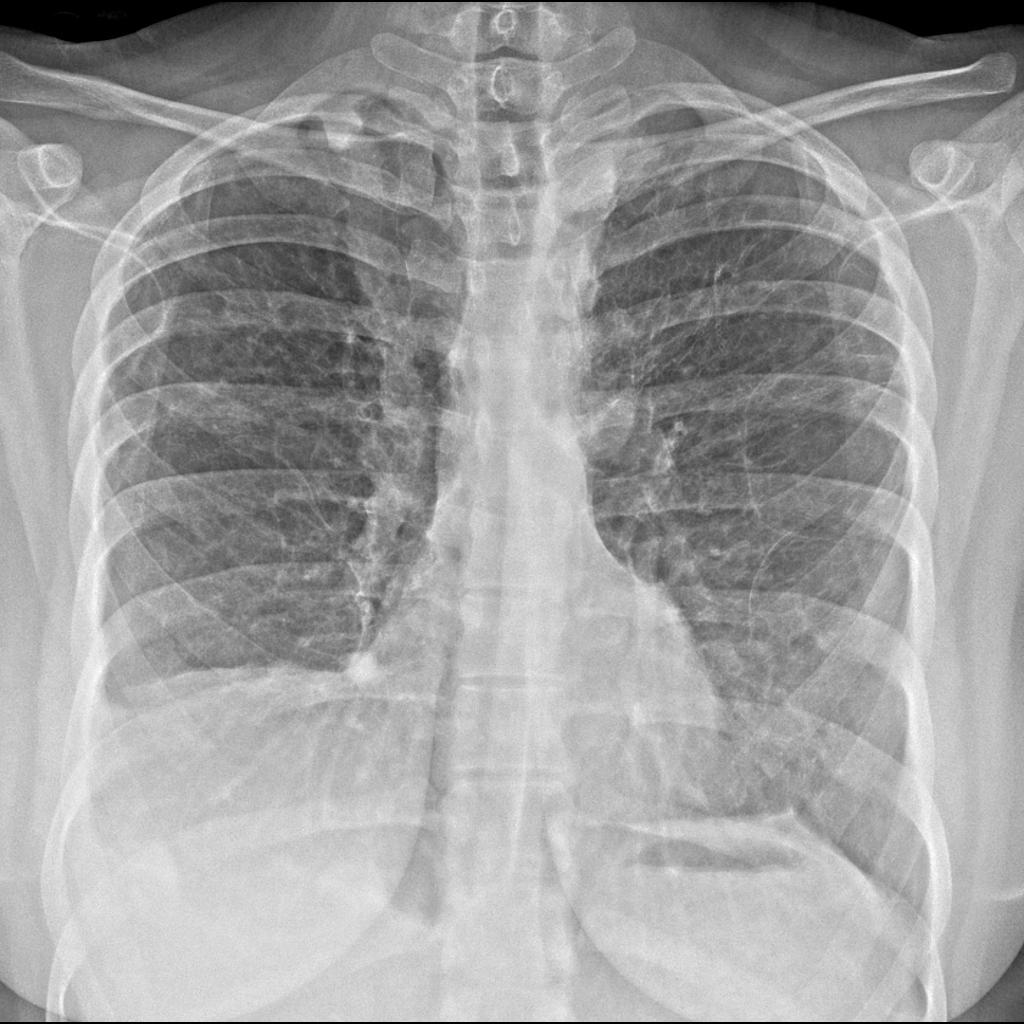Nodule: (329, 638, 395, 698)
